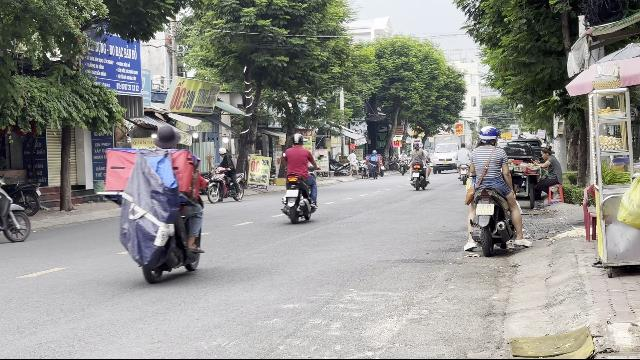helmet: (478, 126, 498, 146), (291, 133, 305, 147)
licenseplate: (476, 204, 494, 214)
motorcyclist: (115, 121, 208, 284), (461, 124, 525, 256), (280, 132, 318, 224)
nohelmet: (154, 123, 180, 149)
